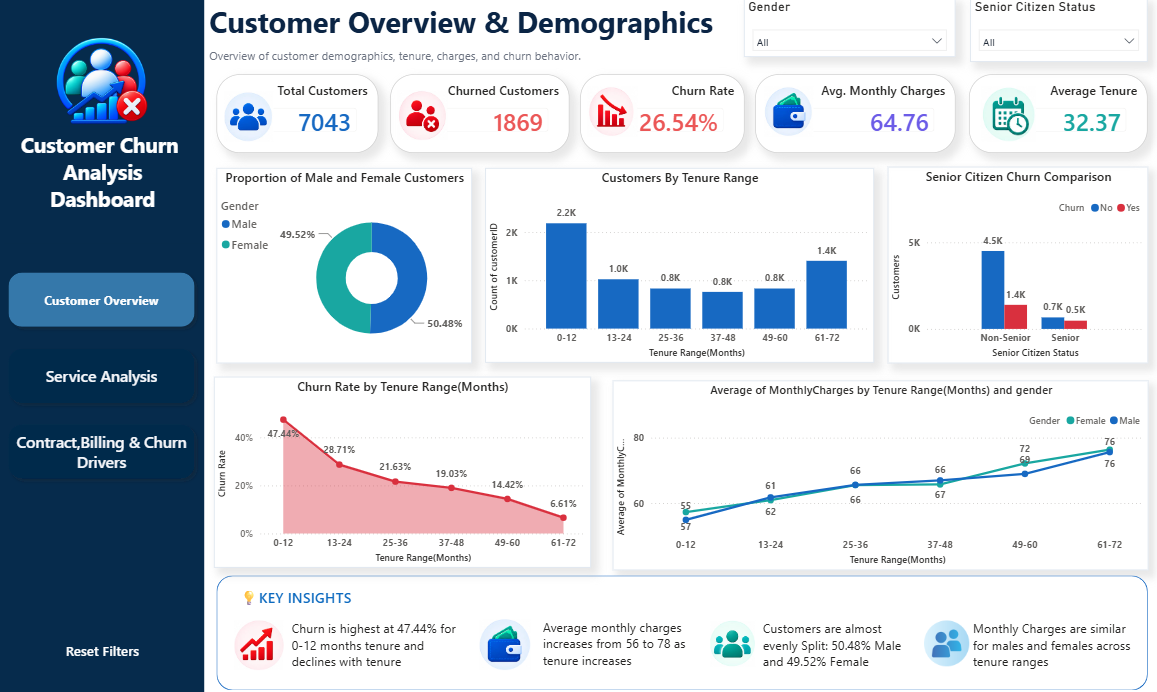

The page's visual inventory and layout, read from the dashboard file:
{"tool":"powerbi","page":{"name":"Customer Overview","canvas":[1500,900],"ordinal":0},"visuals":[{"type":"donutChart","title":"Proportion of Male and Female Customers","fields":{"Category":["Telco-Customer-Churn.gender"],"Y":["Count(Telco-Customer-Churn.customerID)"]},"box":[281,219,329.3,251.7],"z":0},{"type":"clusteredColumnChart","title":"Senior Citizen Churn Comparison","fields":{"Category":["Telco-Customer-Churn.SeniorCitizen Status"],"Y":["CountNonNull(Telco-Customer-Churn.customerID)"],"Series":["Telco-Customer-Churn.Churn"]},"box":[1146.6,217.2,336.2,253.4],"z":1000},{"type":"cardVisual","title":"Churned Customers","fields":{"Data":["Telco-Customer-Churn.Churned Customers"]},"box":[505.2,98.3,231,101.7],"z":2000},{"type":"cardVisual","title":"Churn Rate","fields":{"Data":["Telco-Customer-Churn.Churn Rate"]},"box":[750,98.3,212.1,101.7],"z":3000},{"type":"cardVisual","title":"Avg. Monthly Charges","fields":{"Data":["Telco-Customer-Churn.Average Monthly Charges"]},"box":[975.9,98.3,258.6,101.7],"z":4000},{"type":"cardVisual","title":"Average Tenure","fields":{"Data":["Telco-Customer-Churn.Average Tenure"]},"box":[1251.8,98.2,230.4,101.8],"z":5000},{"type":"textbox","box":[265.7,0,666.7,60],"z":6000},{"type":"cardVisual","title":"Total Customers","fields":{"Data":["Telco-Customer-Churn.Total Customers"]},"box":[281,98.3,208.6,101.7],"z":7000},{"type":"columnChart","title":"Customers By Tenure Range","fields":{"Y":["CountNonNull(Telco-Customer-Churn.customerID)"],"Category":["Telco-Customer-Churn.Tenure Range"]},"box":[627.1,218.6,501.4,251.4],"z":8000},{"type":"lineChart","fields":{"Category":["Telco-Customer-Churn.Tenure Range"],"Y":["Avg(Telco-Customer-Churn.MonthlyCharges)"],"Series":["Telco-Customer-Churn.gender"]},"box":[791.4,493.1,691.4,244.8],"z":9000},{"type":"shape","box":[0,0,265,900],"z":10000},{"type":"slicer","title":"Senior Citizen Status","fields":{"Values":["Telco-Customer-Churn.SeniorCitizen Status"]},"box":[1253.6,0,228.6,82.1],"z":11000},{"type":"shape","box":[281,744.8,1201.7,148.3],"z":12000},{"type":"textbox","box":[305.2,756.9,185,40],"z":13000},{"type":"textbox","box":[372.4,796.6,224.1,93.1],"z":14000},{"type":"textbox","box":[696.6,794.8,225.9,75.9],"z":15000},{"type":"textbox","box":[1251.7,796.6,220.7,77.6],"z":16000},{"type":"actionButton","box":[20.7,806.9,225,70],"z":17000},{"type":"textbox","box":[981,796.6,212.1,75.9],"z":18000},{"type":"textbox","box":[265.7,60,663.3,30],"z":19000},{"type":"textbox","box":[6.9,165.5,254.3,150],"z":20000},{"type":"slicer","title":"Gender","fields":{"Values":["Telco-Customer-Churn.gender"]},"box":[962.1,0,272.4,75.9],"z":21000},{"type":"image","box":[62.1,37.9,140,140],"z":22000},{"type":"pageNavigator","box":[3.4,344.8,258.6,284.5],"z":23000},{"type":"image","box":[281,120.7,82.8,63.8],"z":24000},{"type":"image","box":[505.2,119,82.8,63.8],"z":25000},{"type":"image","box":[750,113.8,82.8,63.8],"z":26000},{"type":"image","box":[977.6,113.8,82.8,63.8],"z":27000},{"type":"image","box":[1251.7,113.8,101.7,70.7],"z":28000},{"type":"lineChart","fields":{"Category":["Telco-Customer-Churn.Tenure Range(Months)"],"Y":["Telco-Customer-Churn.Churn Rate"]},"box":[277.6,487.9,486.2,246.6],"z":29000},{"type":"image","box":[298.3,803.4,74.1,63.8],"z":30000},{"type":"image","box":[610.3,801.7,86.2,65.5],"z":31000},{"type":"image","box":[917.2,798.3,58.6,69],"z":32000},{"type":"image","box":[1193.1,798.3,58.6,69],"z":33000}]}

Visuals, with their boxes in screenshot pixels (x1, y1, x2, y2), scaled from the page's 1500x900 canvas onto the 1157x692 screenshot:
"Proportion of Male and Female Customers" donutChart: 217, 168, 471, 362
"Senior Citizen Churn Comparison" clusteredColumnChart: 884, 167, 1144, 362
"Churned Customers" cardVisual: 390, 76, 568, 154
"Churn Rate" cardVisual: 578, 76, 742, 154
"Avg. Monthly Charges" cardVisual: 753, 76, 952, 154
"Average Tenure" cardVisual: 966, 76, 1143, 154
textbox: 205, 0, 719, 46
"Total Customers" cardVisual: 217, 76, 378, 154
"Customers By Tenure Range" columnChart: 484, 168, 870, 361
lineChart - Telco-Customer-Churn.Tenure Range x Avg(Telco-Customer-Churn.MonthlyCharges): 610, 379, 1144, 567
shape: 0, 0, 204, 691
"Senior Citizen Status" slicer: 967, 0, 1143, 63
shape: 217, 573, 1144, 687
textbox: 235, 582, 378, 613
textbox: 287, 612, 460, 684
textbox: 537, 611, 712, 669
textbox: 965, 612, 1136, 672
actionButton: 16, 620, 190, 674
textbox: 757, 612, 920, 671
textbox: 205, 46, 717, 69
textbox: 5, 127, 201, 243
"Gender" slicer: 742, 0, 952, 58
image: 48, 29, 156, 137
pageNavigator: 3, 265, 202, 484
image: 217, 93, 281, 142
image: 390, 91, 454, 141
image: 578, 87, 642, 137
image: 754, 87, 818, 137
image: 965, 87, 1044, 142
lineChart - Telco-Customer-Churn.Tenure Range(Months) x Telco-Customer-Churn.Churn Rate: 214, 375, 589, 565
image: 230, 618, 287, 667
image: 471, 616, 537, 667
image: 707, 614, 753, 667
image: 920, 614, 965, 667
